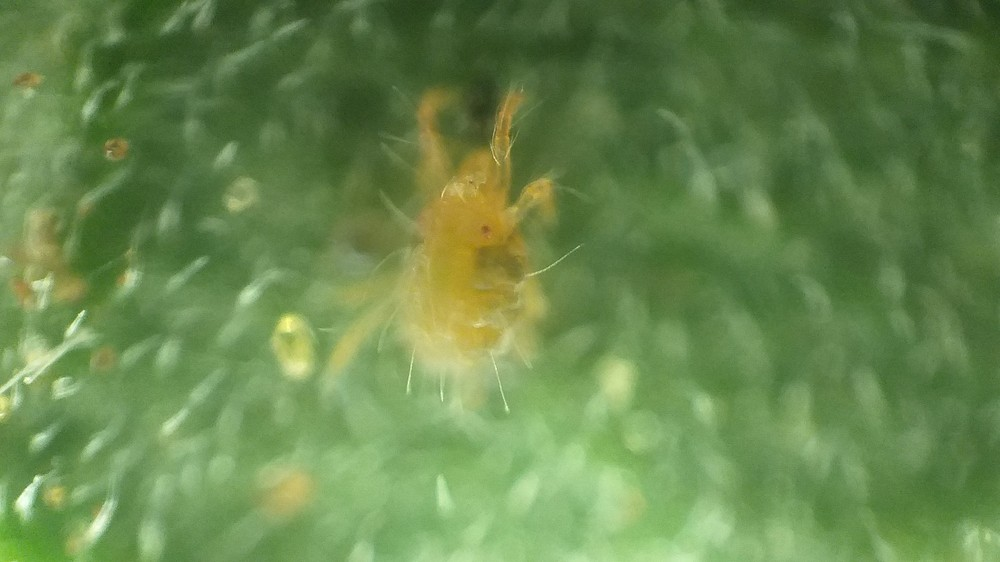Aracnido Rojo: (334, 74, 605, 435)
